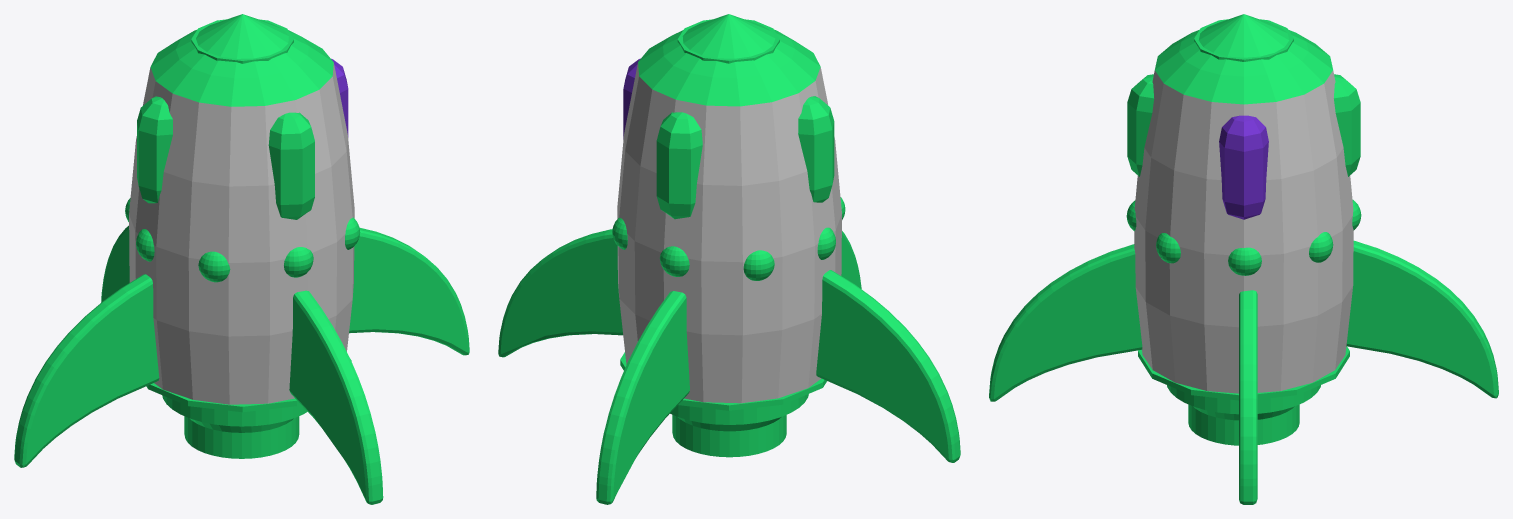
Rendered from rocketmat.gltf.
The picture shows the model from 3 angles, left to right: view 1: azimuth 30°, elevation 25°; view 2: azimuth 150°, elevation 25°; view 3: azimuth 270°, elevation 25°; orthographic projection. The views are drawn at different scales.
Visible parts, largest first — view 1: CUPIC_ROCKETSHIP.050, CUPIC_ROCKETSHIP, CUPIC_ROCKETSHIP.046, CUPIC_ROCKETSHIP.038, CUPIC_ROCKETSHIP.043, CUPIC_ROCKETSHIP.009, CUPIC_ROCKETSHIP.026, CUPIC_ROCKETSHIP.010, CUPIC_ROCKETSHIP.045, CUPIC_ROCKETSHIP.039, CUPIC_ROCKETSHIP.022, CUPIC_ROCKETSHIP.042 (+10 smaller); view 2: CUPIC_ROCKETSHIP.050, CUPIC_ROCKETSHIP, CUPIC_ROCKETSHIP.048, CUPIC_ROCKETSHIP.036, CUPIC_ROCKETSHIP.031, CUPIC_ROCKETSHIP.011, CUPIC_ROCKETSHIP.010, CUPIC_ROCKETSHIP.026, CUPIC_ROCKETSHIP.029, CUPIC_ROCKETSHIP.047, CUPIC_ROCKETSHIP.022, CUPIC_ROCKETSHIP.030 (+10 smaller); view 3: CUPIC_ROCKETSHIP.050, CUPIC_ROCKETSHIP, CUPIC_ROCKETSHIP.041, CUPIC_ROCKETSHIP.033, CUPIC_ROCKETSHIP.012, CUPIC_ROCKETSHIP.026, CUPIC_ROCKETSHIP.034, CUPIC_ROCKETSHIP.011, CUPIC_ROCKETSHIP.009, CUPIC_ROCKETSHIP.040, CUPIC_ROCKETSHIP.032, CUPIC_ROCKETSHIP.022 (+8 smaller).
Boxes of the visible parts, x1,y1,x2,y2 form: CUPIC_ROCKETSHIP.050: (129, 63, 354, 404); CUPIC_ROCKETSHIP: (150, 14, 333, 106); CUPIC_ROCKETSHIP.046: (26, 284, 159, 464); CUPIC_ROCKETSHIP.038: (349, 236, 467, 352); CUPIC_ROCKETSHIP.043: (289, 298, 365, 499); CUPIC_ROCKETSHIP.009: (268, 112, 314, 219); CUPIC_ROCKETSHIP.026: (184, 416, 299, 458); CUPIC_ROCKETSHIP.010: (137, 96, 172, 203); CUPIC_ROCKETSHIP.045: (19, 278, 159, 467); CUPIC_ROCKETSHIP.039: (297, 290, 380, 504); CUPIC_ROCKETSHIP.022: (162, 395, 307, 426); CUPIC_ROCKETSHIP.042: (290, 292, 372, 504); CUPIC_ROCKETSHIP.050: (617, 63, 841, 403); CUPIC_ROCKETSHIP: (638, 14, 820, 106); CUPIC_ROCKETSHIP.048: (816, 280, 948, 459); CUPIC_ROCKETSHIP.036: (500, 238, 622, 353); CUPIC_ROCKETSHIP.031: (613, 298, 689, 499); CUPIC_ROCKETSHIP.011: (656, 112, 702, 219); CUPIC_ROCKETSHIP.010: (798, 96, 834, 202); CUPIC_ROCKETSHIP.026: (672, 415, 786, 457); CUPIC_ROCKETSHIP.029: (598, 291, 681, 504); CUPIC_ROCKETSHIP.047: (816, 274, 955, 462); CUPIC_ROCKETSHIP.022: (670, 394, 808, 424); CUPIC_ROCKETSHIP.030: (606, 292, 689, 504); CUPIC_ROCKETSHIP.050: (1134, 70, 1353, 393); CUPIC_ROCKETSHIP: (1155, 14, 1332, 104); CUPIC_ROCKETSHIP.041: (994, 254, 1142, 398); CUPIC_ROCKETSHIP.033: (1346, 251, 1493, 395); CUPIC_ROCKETSHIP.012: (1219, 115, 1268, 219); CUPIC_ROCKETSHIP.026: (1188, 404, 1299, 445); CUPIC_ROCKETSHIP.034: (1243, 290, 1252, 504); CUPIC_ROCKETSHIP.011: (1333, 74, 1360, 176); CUPIC_ROCKETSHIP.009: (1127, 74, 1154, 176); CUPIC_ROCKETSHIP.040: (989, 248, 1142, 401); CUPIC_ROCKETSHIP.032: (1346, 244, 1498, 398); CUPIC_ROCKETSHIP.022: (1167, 385, 1320, 414).
Size of the model in its own units: 10.9 by 9.64 by 10.9.
